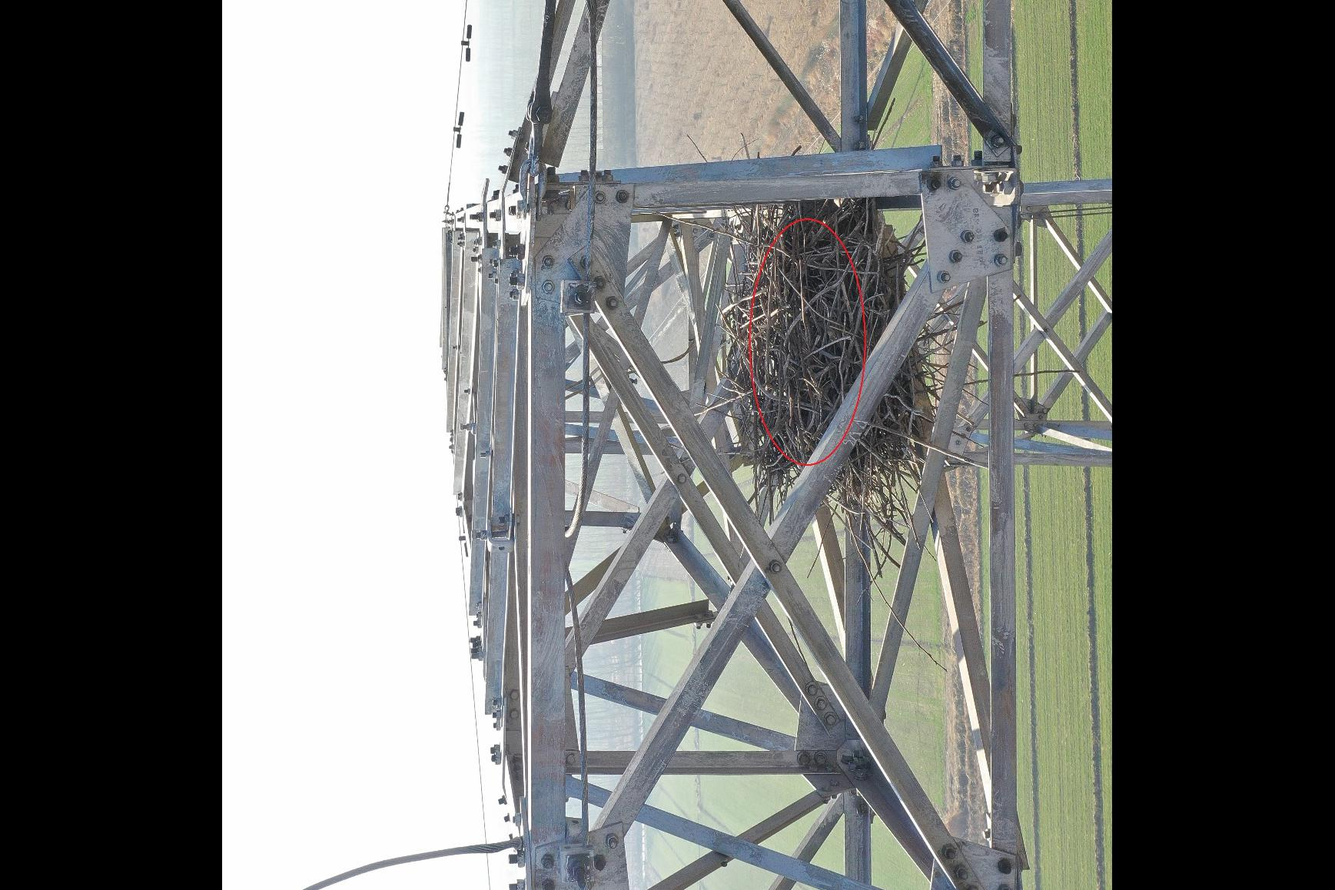damper: (450, 108, 467, 151), (457, 21, 474, 64)
nest: (709, 185, 955, 555)
